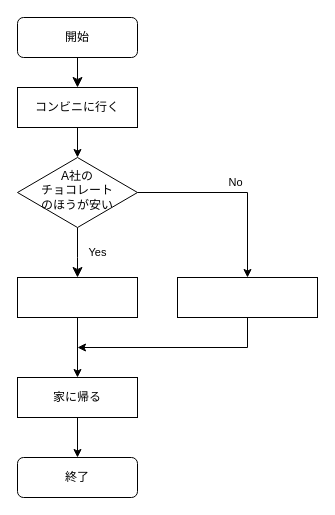
This 335x515 diagram has some shape labels left out. The box of each missing label's shape, as (x1, y1, x2, y2) in pixels:
A社のチョコレートを 買う: (16, 276, 138, 318)
B社のチョコレートを 買う: (176, 276, 318, 318)
